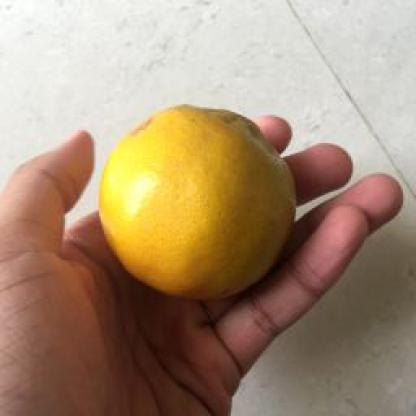orange: (88, 99, 299, 304)
